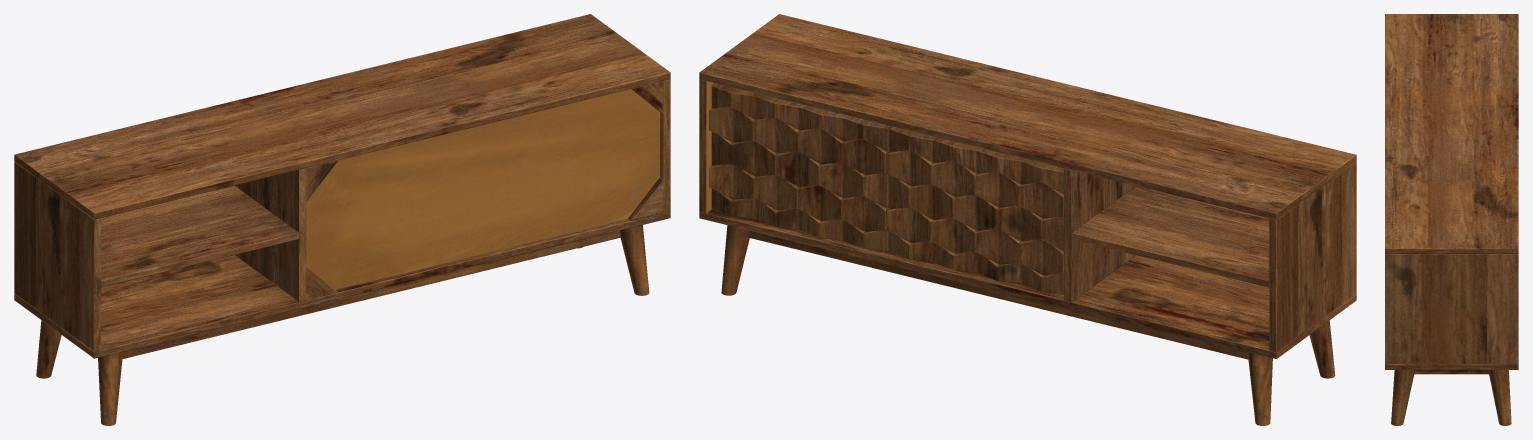
The model's file is abo_B07HSG8DPZ.glb.
The picture shows the model from 3 angles, left to right: view 1: azimuth 30°, elevation 25°; view 2: azimuth 150°, elevation 25°; view 3: azimuth 270°, elevation 25°; orthographic projection. The views are drawn at different scales.
Visible parts, largest first — view 1: RootNode; view 2: RootNode; view 3: RootNode.
Part boxes in pixels (x1,y1,x2,y2): RootNode: [14, 14, 670, 425]; RootNode: [699, 14, 1356, 425]; RootNode: [1385, 14, 1518, 425].
Size of the model in its own units: 1.45 by 0.5283 by 0.3487.
Materials: 1 (1 with a texture image).
